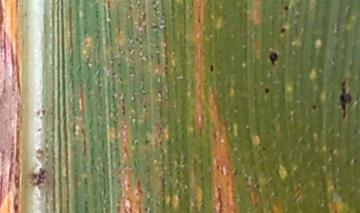tarspot: (338, 79, 353, 122), (267, 50, 279, 67), (208, 62, 215, 73), (279, 27, 288, 35), (282, 4, 291, 12), (262, 87, 271, 94), (352, 158, 358, 166), (127, 4, 133, 12), (328, 148, 335, 154), (311, 104, 317, 110), (261, 145, 266, 152)
